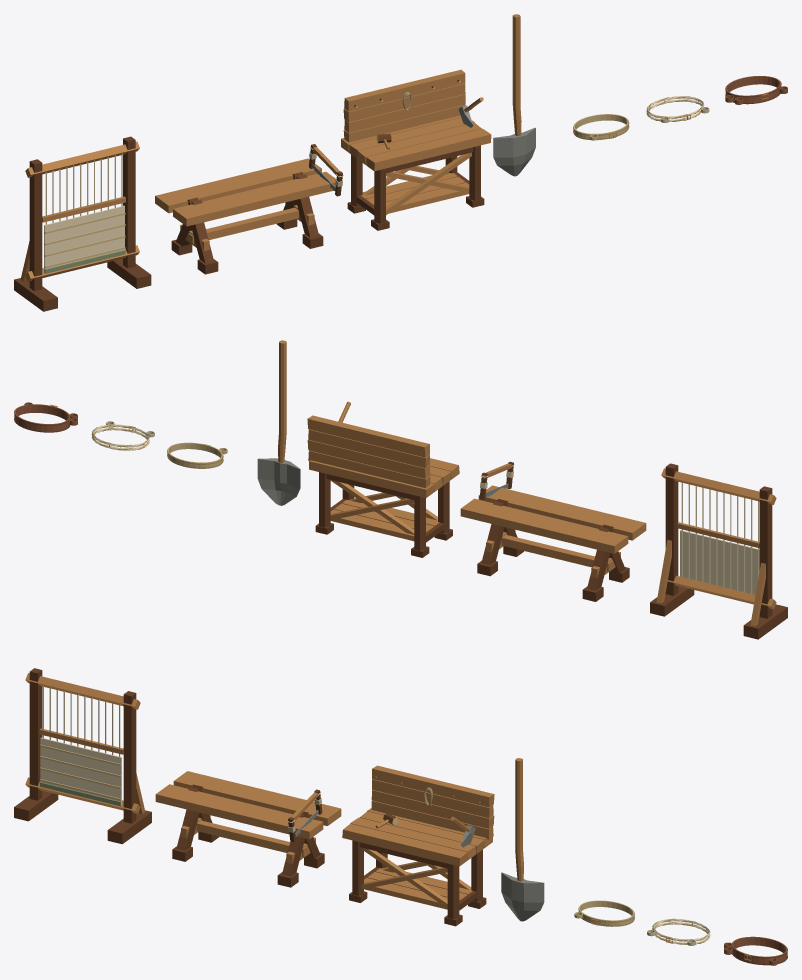
The model's file is CIZBIZ_Tezgahlar_Dogal_Halat.fbx.
3 renders of one model, top to bottom at view 1: azimuth 30°, elevation 25°; view 2: azimuth 150°, elevation 25°; view 3: azimuth 330°, elevation 25°, orthographic.
Parts seen in each view (by area): view 1: ÇalışmaTezgahı, DokumaTezgahı, KeresteTezgahı, Kürek, 3. Kemer, 1. Kemer, 2. Kemer, Testere, DokumaTezgahı.001; view 2: ÇalışmaTezgahı, DokumaTezgahı, KeresteTezgahı, Kürek, 3. Kemer, 1. Kemer, 2. Kemer, Testere, DokumaTezgahı.001; view 3: ÇalışmaTezgahı, DokumaTezgahı, KeresteTezgahı, Kürek, 3. Kemer, 1. Kemer, 2. Kemer, Testere, DokumaTezgahı.001.
Part boxes in pixels (x1,y1,x2,y2): ÇalışmaTezgahı: (341, 69, 491, 230); DokumaTezgahı: (14, 136, 151, 311); KeresteTezgahı: (155, 158, 336, 274); Kürek: (493, 14, 535, 176); 3. Kemer: (725, 76, 787, 104); 1. Kemer: (573, 114, 629, 140); 2. Kemer: (646, 96, 709, 122); Testere: (309, 144, 343, 196); DokumaTezgahı.001: (42, 196, 125, 222); ÇalışmaTezgahı: (307, 415, 459, 557); DokumaTezgahı: (650, 463, 787, 639); KeresteTezgahı: (460, 485, 646, 601); Kürek: (257, 340, 300, 505); 3. Kemer: (14, 402, 77, 432); 1. Kemer: (167, 442, 227, 468); 2. Kemer: (91, 421, 154, 450); Testere: (479, 461, 514, 499); DokumaTezgahı.001: (677, 522, 759, 548); ÇalışmaTezgahı: (342, 765, 494, 926); DokumaTezgahı: (14, 668, 151, 844); KeresteTezgahı: (155, 771, 341, 887); Kürek: (501, 758, 544, 921); 3. Kemer: (724, 936, 787, 965); 1. Kemer: (574, 900, 634, 926); 2. Kemer: (647, 918, 710, 945); Testere: (287, 789, 322, 842); DokumaTezgahı.001: (39, 728, 123, 754).
Bounding box in the file's own units: 29.14 × 6.16 × 2.91.
